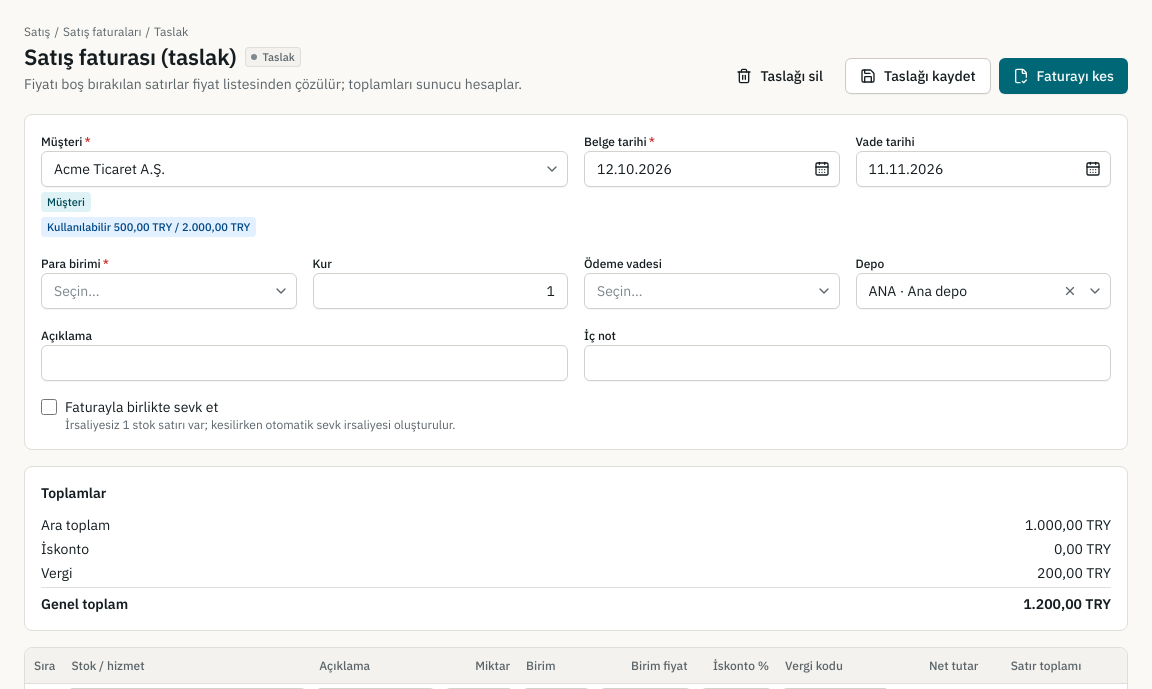
invoice editor › stops at the credit limit in block mode without the override permission
This screenshot has width=1152, height=689.
Expected: the heading "Satış faturası (taslak)" is shown, top-left (24, 42), bottom-right (236, 72)
Click the button "Faturayı kes" at (1063, 76), box top-left (999, 58), bottom-right (1128, 94)
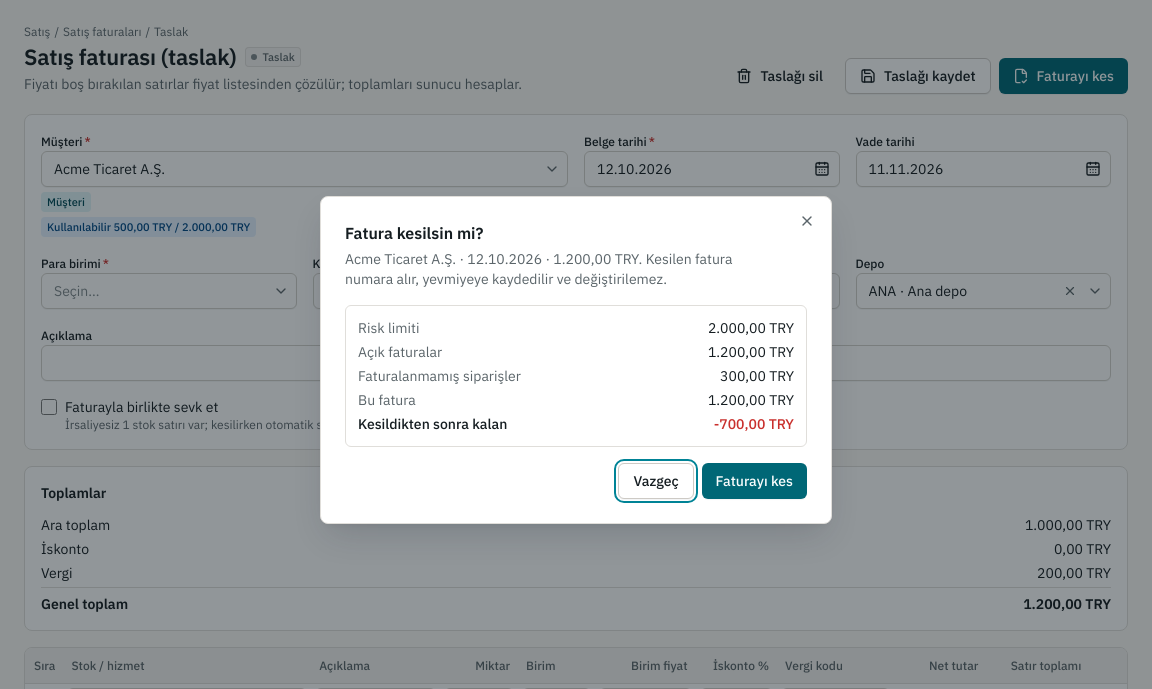
Click the button "Faturayı kes" at (754, 481), box top-left (702, 463), bottom-right (807, 499)
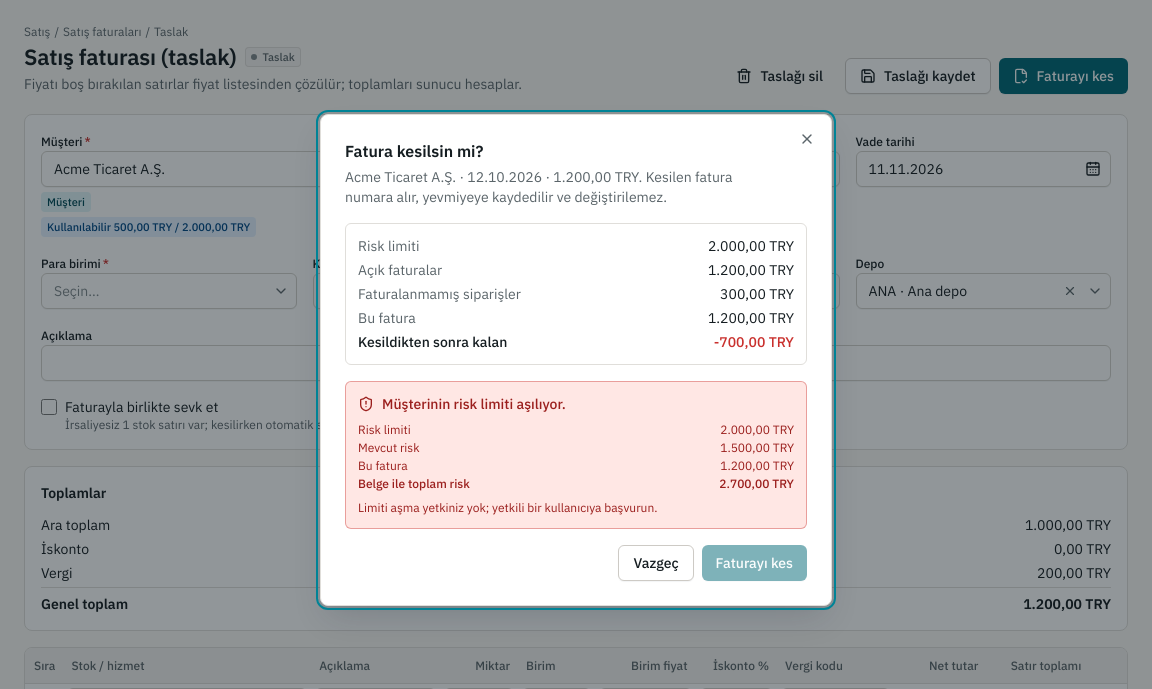
Result: the text "Müşterinin risk limiti aşılıyor." is shown at top-left (358, 395), bottom-right (566, 413)
Result: the text "Limiti aşma yetkiniz yok; yetkili bir kullanıcıya başvurun." is shown at top-left (358, 500), bottom-right (658, 515)
Result: the element with test id "credit-breakdown" shows "1.500,00 TRY" at top-left (720, 440), bottom-right (794, 455)
